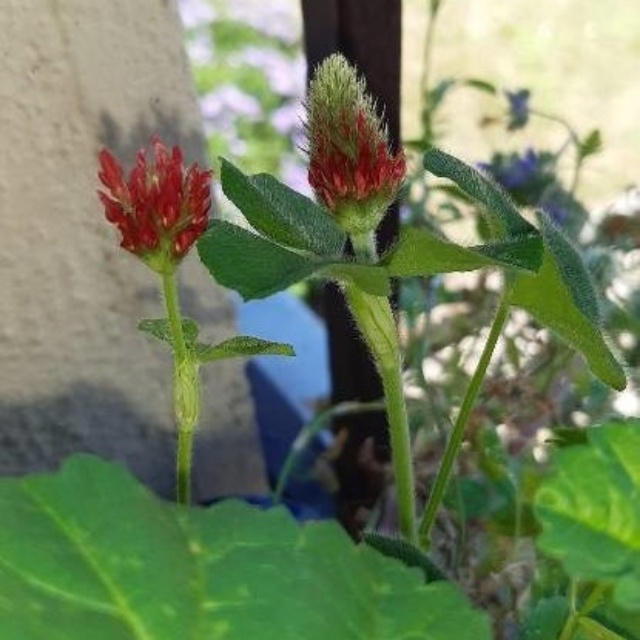obstacle: (221, 56, 487, 529), (80, 116, 315, 532)
